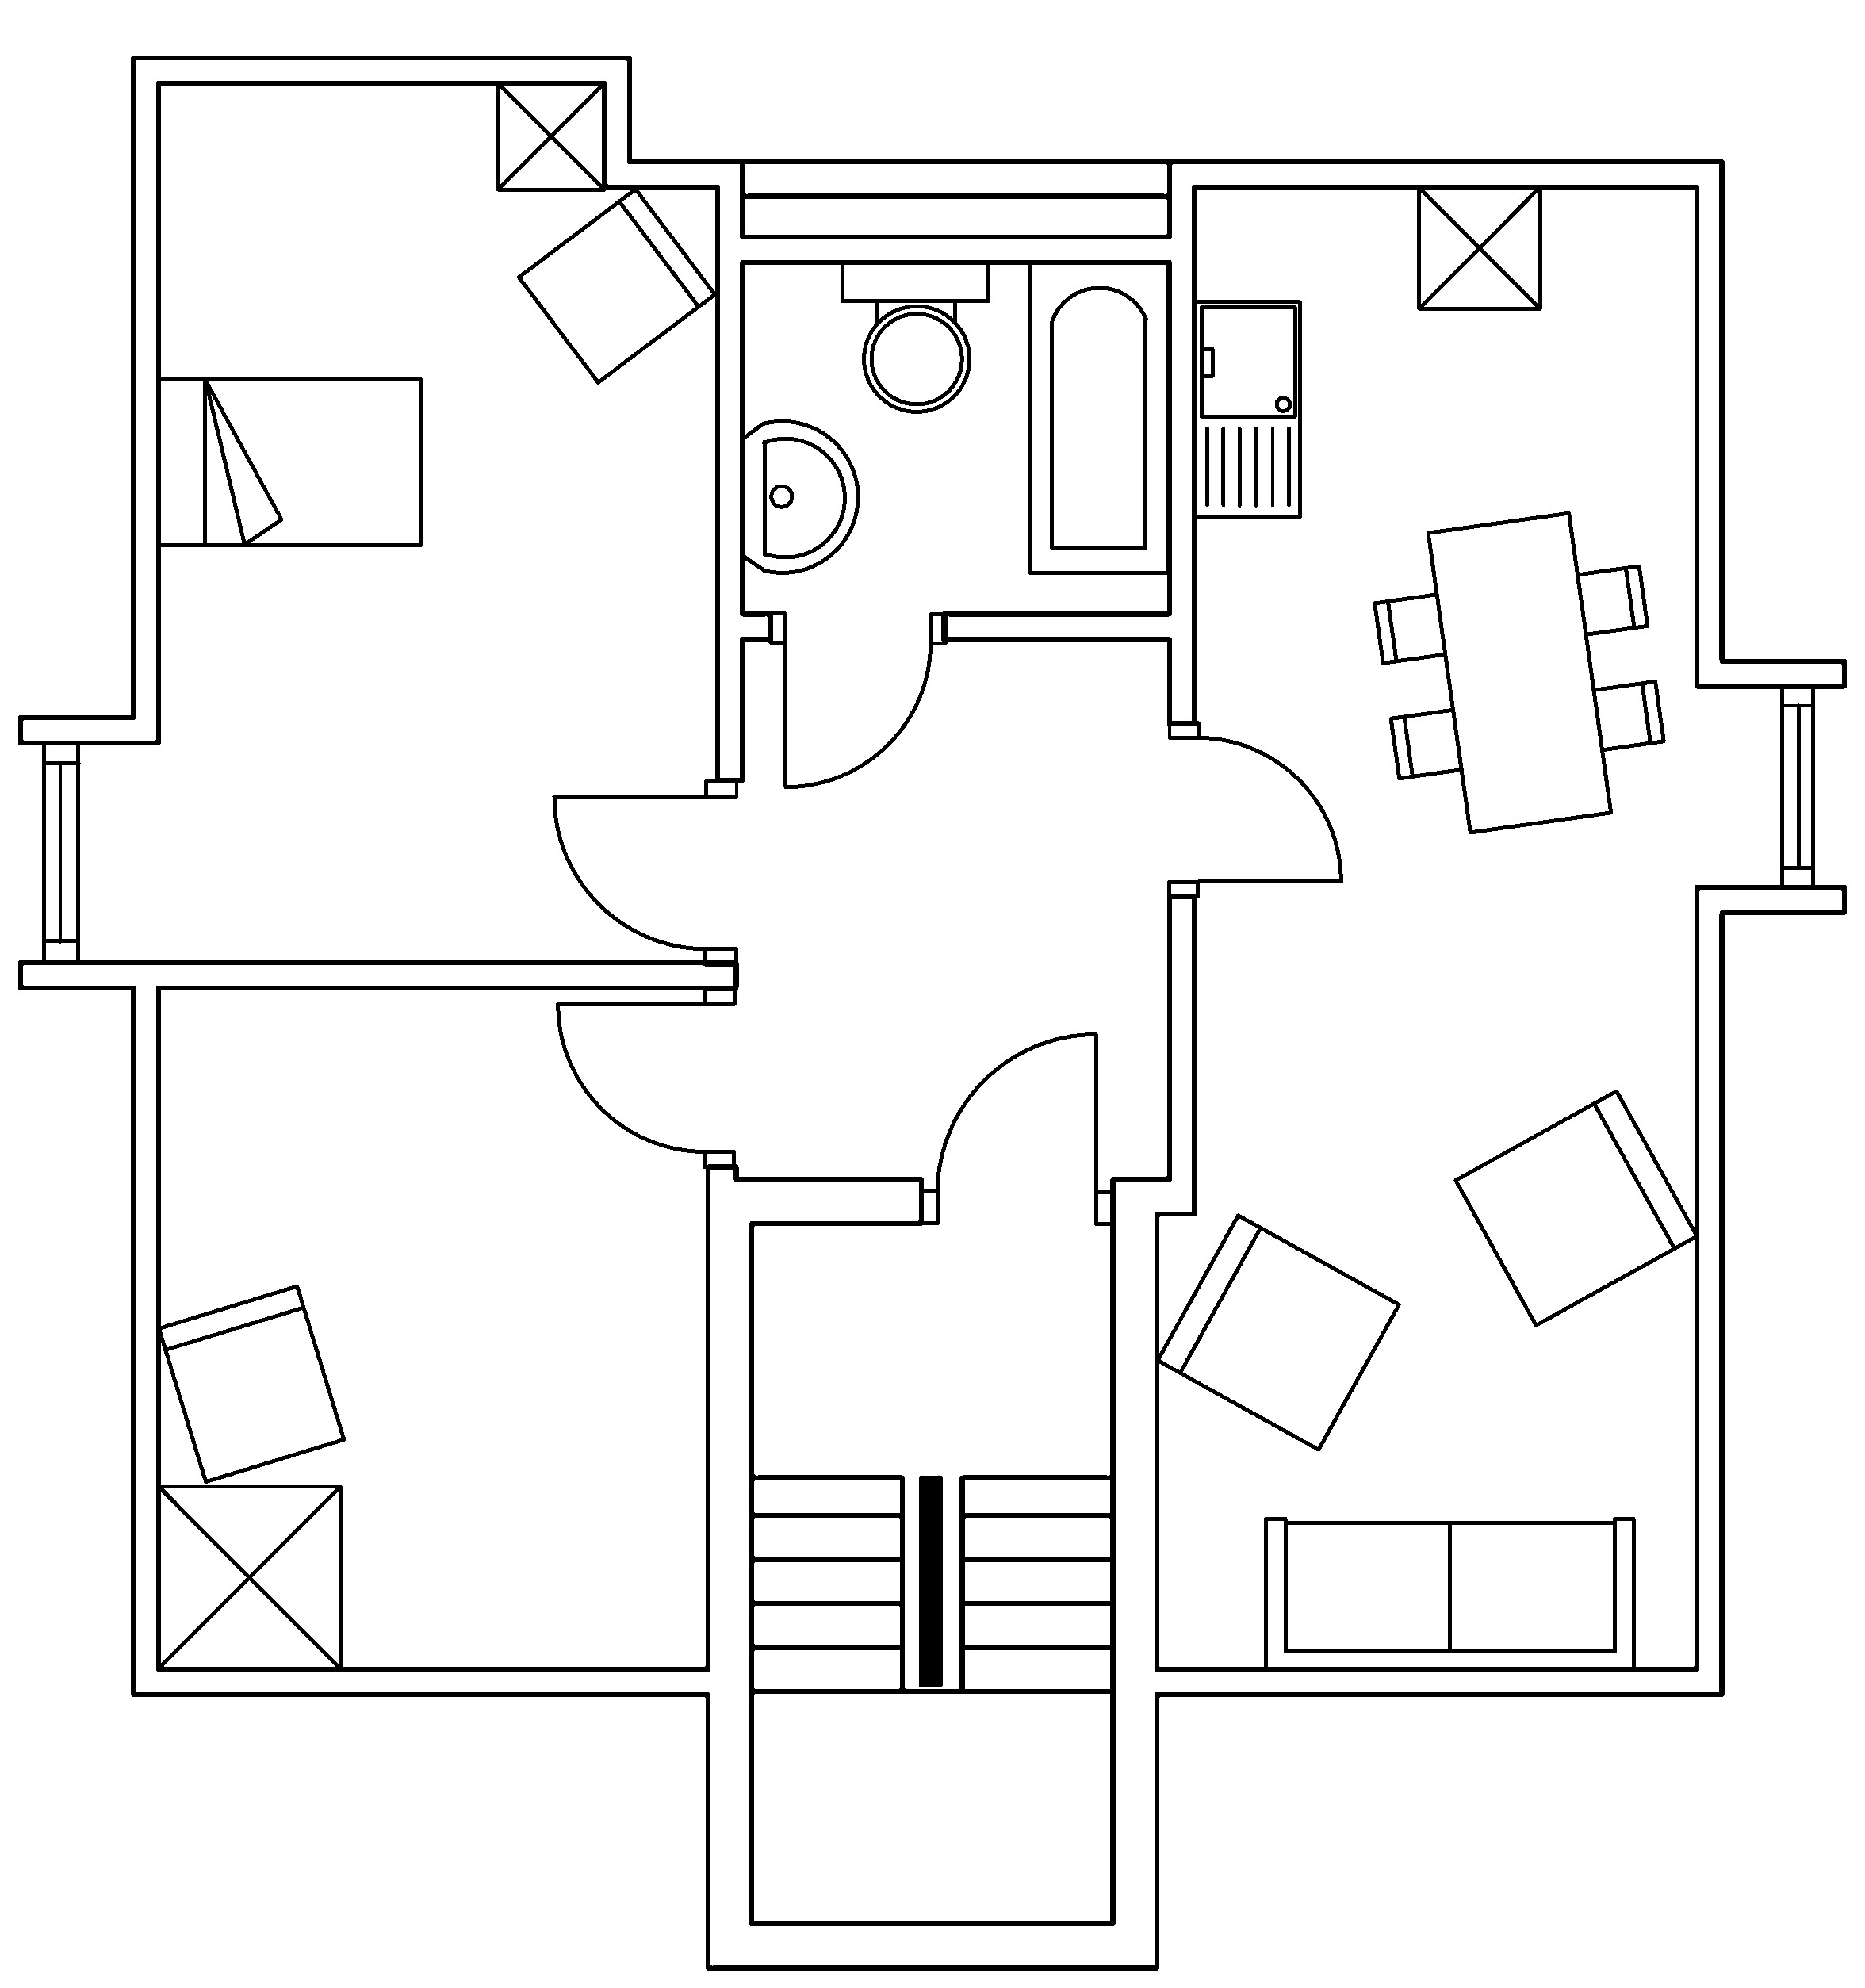bed: (154, 375, 424, 549)
coffee_table: (154, 1481, 342, 1671), (1416, 182, 1542, 310), (494, 79, 606, 191)
dining_table: (1371, 508, 1665, 834)
large_sink: (840, 258, 990, 412)
large_sofa: (1262, 1515, 1635, 1672)
sink: (1192, 298, 1302, 519)
small_sink: (740, 419, 859, 573)
small_sofa: (1153, 1211, 1401, 1452), (1451, 1087, 1698, 1327), (515, 186, 717, 384), (156, 1282, 347, 1483)
tub: (1027, 258, 1171, 575)
